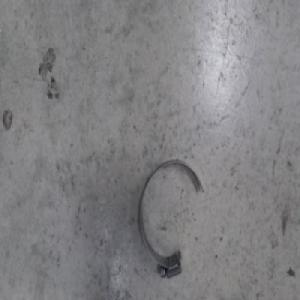AdjustableClamp: (138, 158, 204, 279)
